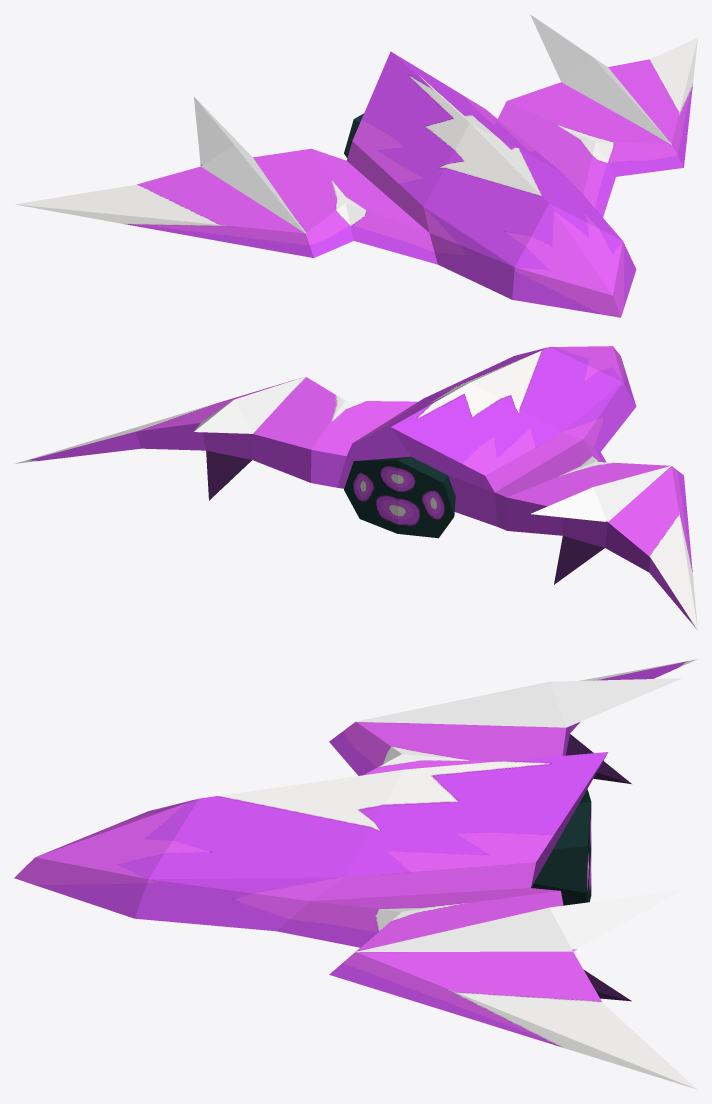
The model's file is spark4.obj.
3 renders of one model, top to bottom at view 1: azimuth 30°, elevation 25°; view 2: azimuth 150°, elevation 25°; view 3: azimuth 270°, elevation 25°, orthographic. The views are drawn at different scales.
Visible parts, largest first — view 1: Plane; view 2: Plane; view 3: Plane.
Boxes of the visible parts, x1,y1,x2,y2 form: Plane: (15,14,697,317); Plane: (15,346,697,630); Plane: (14,659,697,1089).
Size of the model in its own units: 2.17 by 0.3383 by 1.46.
1 material, 1 textured.
